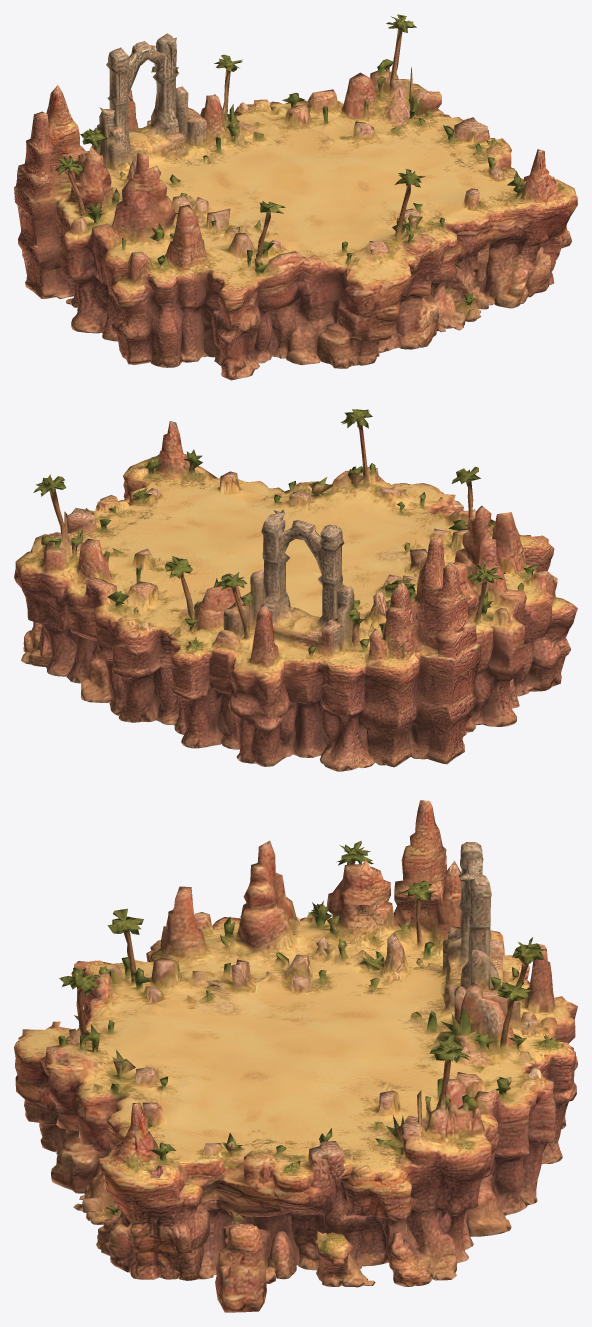
Rendered from desert.glb.
3 views of the same model, one above another, from view 1: azimuth 30°, elevation 25°; view 2: azimuth 150°, elevation 25°; view 3: azimuth 270°, elevation 25° (orthographic). The views are drawn at different scales.
Visible parts, largest first — view 1: tripo_node_1d2a5388-2db0-48cd-83fe-718f09c3ca74; view 2: tripo_node_1d2a5388-2db0-48cd-83fe-718f09c3ca74; view 3: tripo_node_1d2a5388-2db0-48cd-83fe-718f09c3ca74.
Part boxes in pixels (x1,y1,x2,y2): tripo_node_1d2a5388-2db0-48cd-83fe-718f09c3ca74: (14,14,577,380); tripo_node_1d2a5388-2db0-48cd-83fe-718f09c3ca74: (14,409,577,771); tripo_node_1d2a5388-2db0-48cd-83fe-718f09c3ca74: (14,800,577,1312).
Bounding box in the file's own units: 0.9833 × 0.4145 × 0.8202.
Materials: 1 (1 with a texture image).
